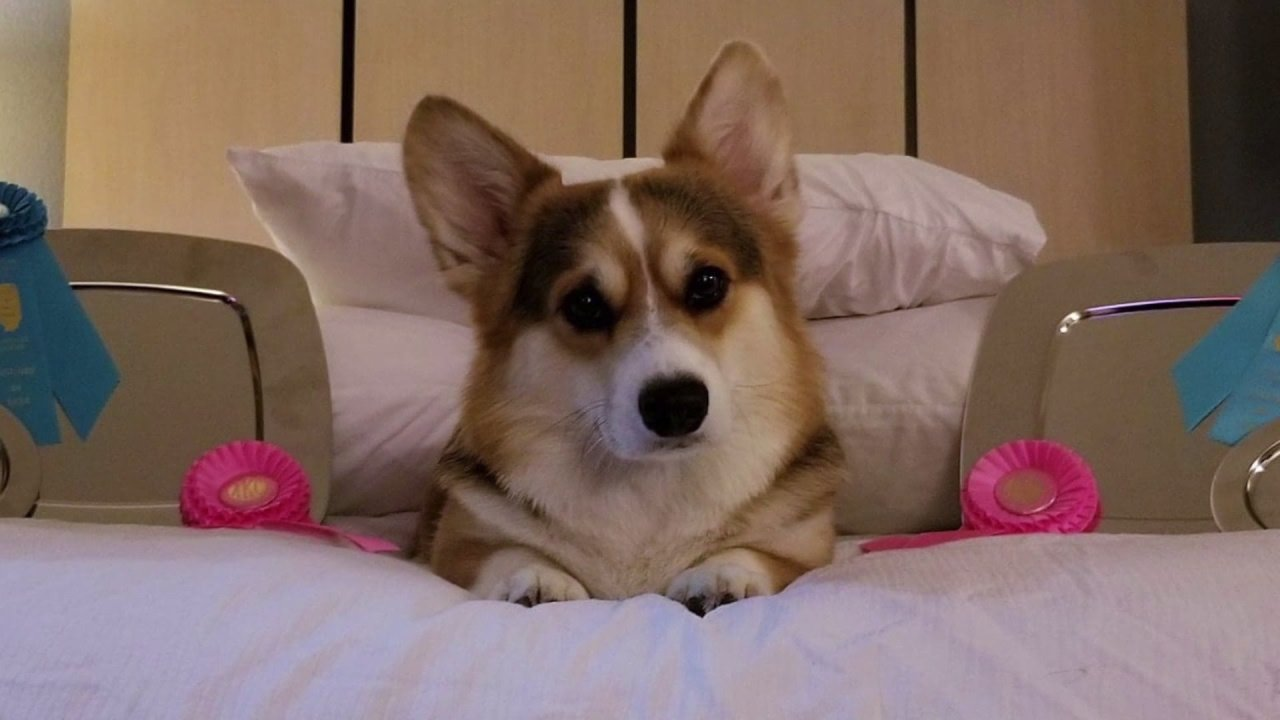corgi: (371, 33, 895, 598)
